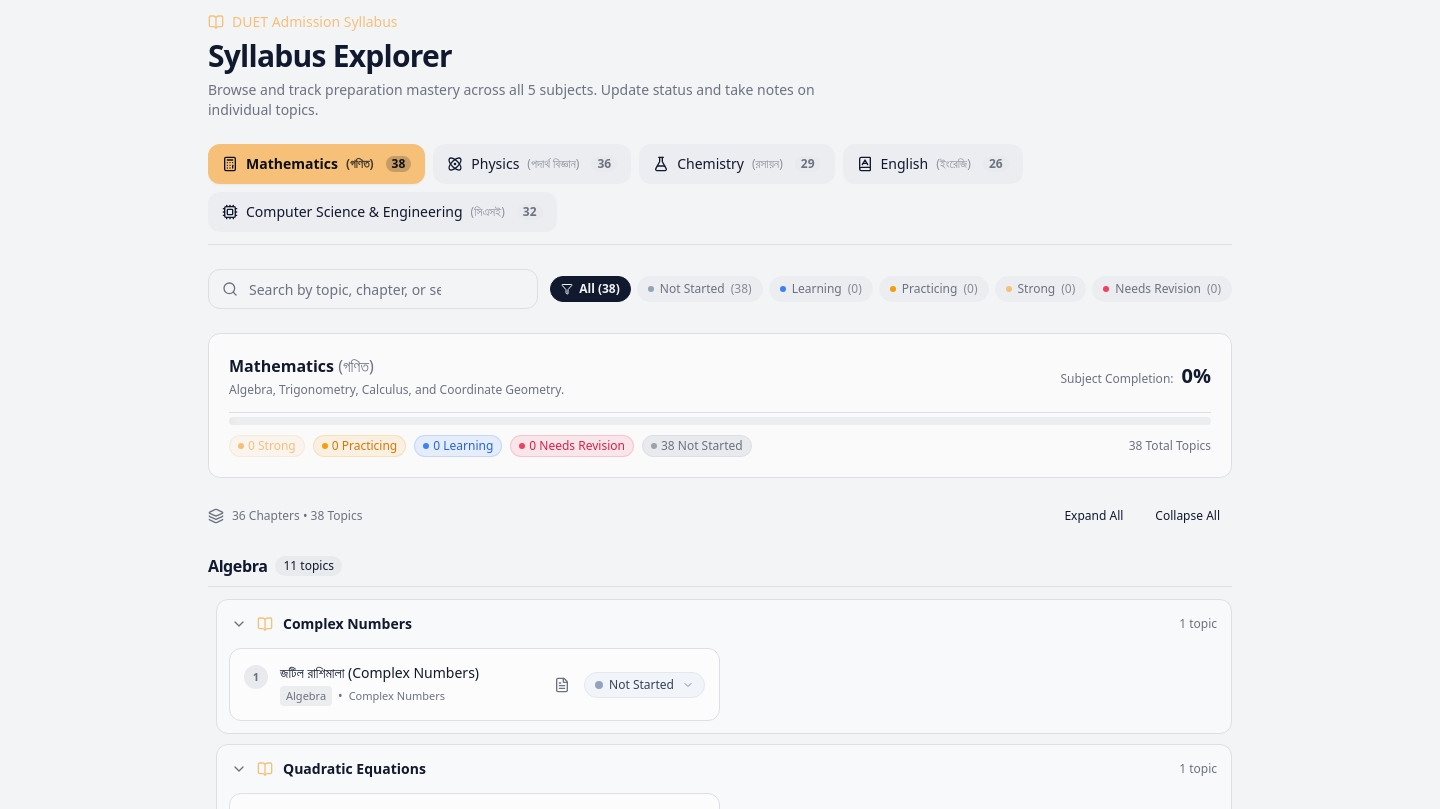
Scenario: SyllabusPage › switches subject tab and displays relevant topics
The image size is (1440, 809).
Click the tab "Physics (পদার্থ বিজ্ঞান) 36" at (532, 164), box [433,144,631,184]
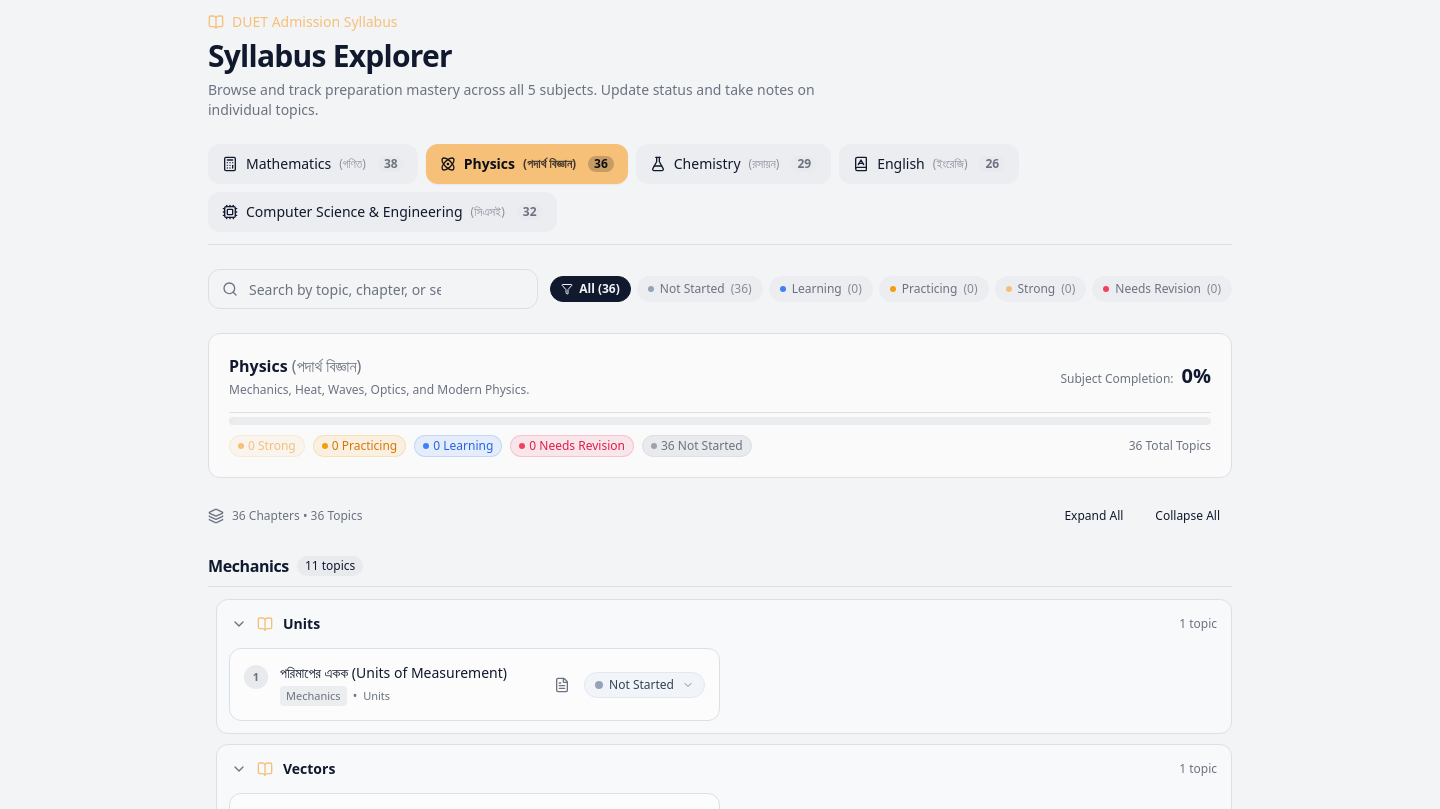
Result: the text "Mechanics, Heat, Waves, Optics, and Modern Physics." is shown at [229,382,529,398]
